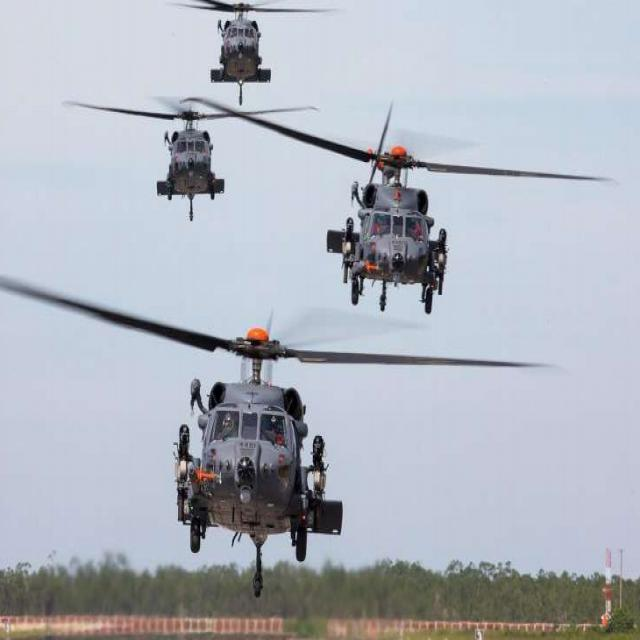helicopter: (1, 252, 566, 601), (193, 94, 616, 290), (64, 93, 325, 222), (138, 1, 345, 85)
